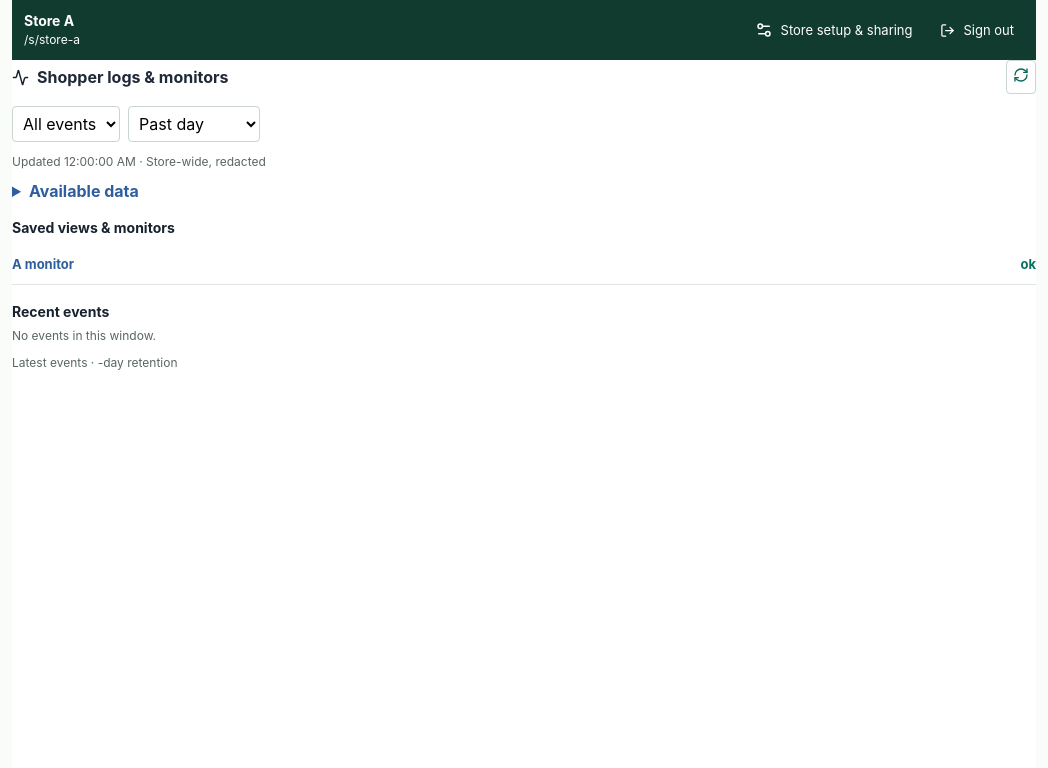
Test: merchant child panels use the originating transport › binds activity reads and monitor mutations, then stops polling on mismatch
Click the text "A monitor" at [43, 264], box [12,256,74,272]
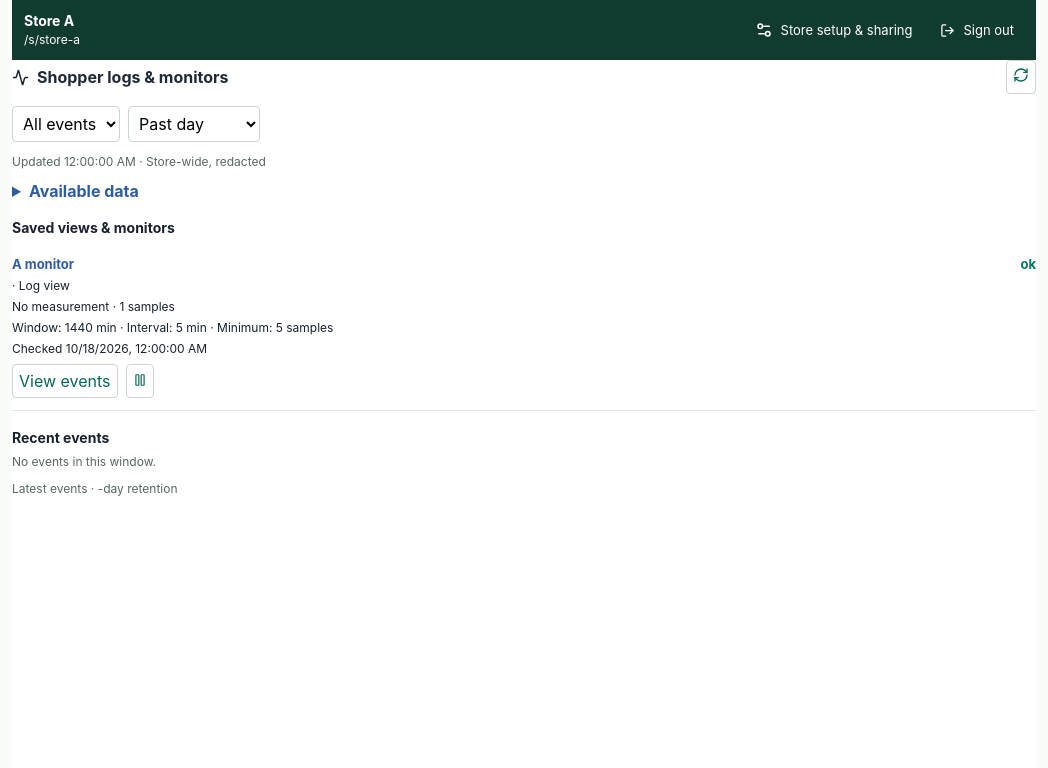
Click the button named "Pause A monitor" at [140, 381], box [126,364,154,398]
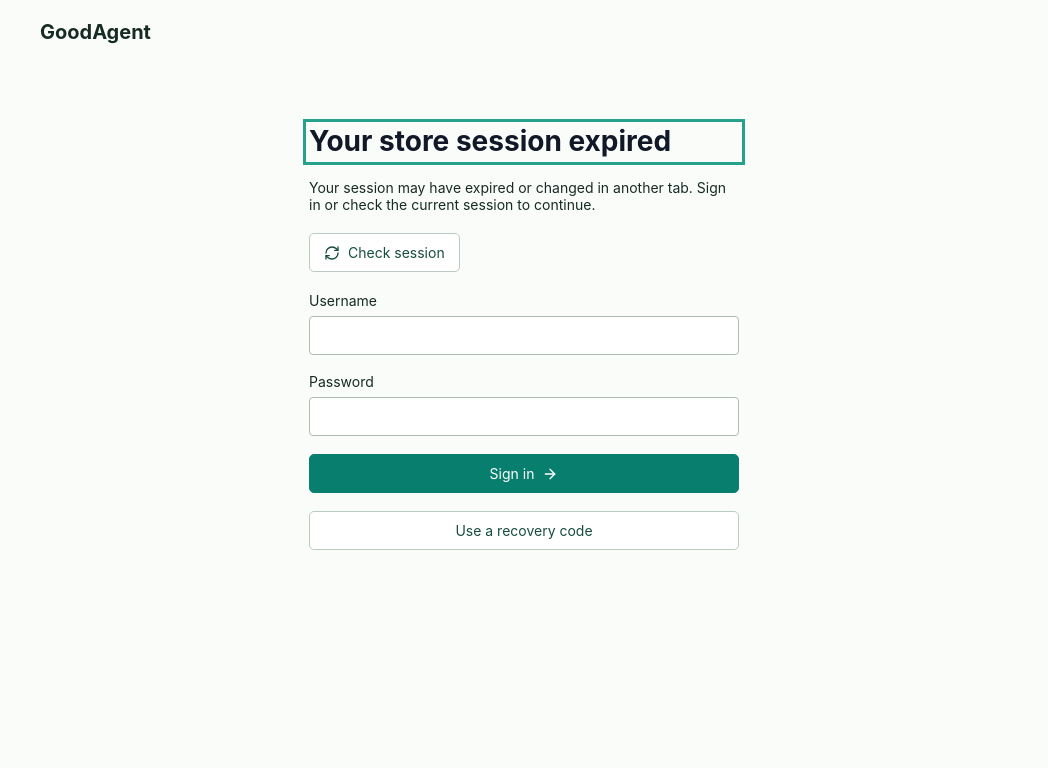
Expected: the button "Check session" is enabled, [309,233,460,272]
